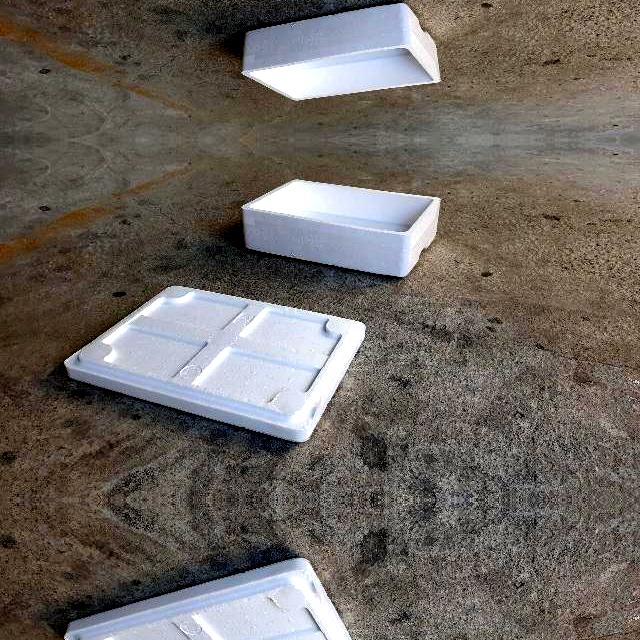Styrofoam: (64, 284, 366, 442), (64, 285, 366, 442), (63, 558, 366, 640), (64, 558, 353, 640), (241, 178, 441, 278), (241, 2, 441, 102), (242, 179, 441, 276), (242, 4, 441, 101)
